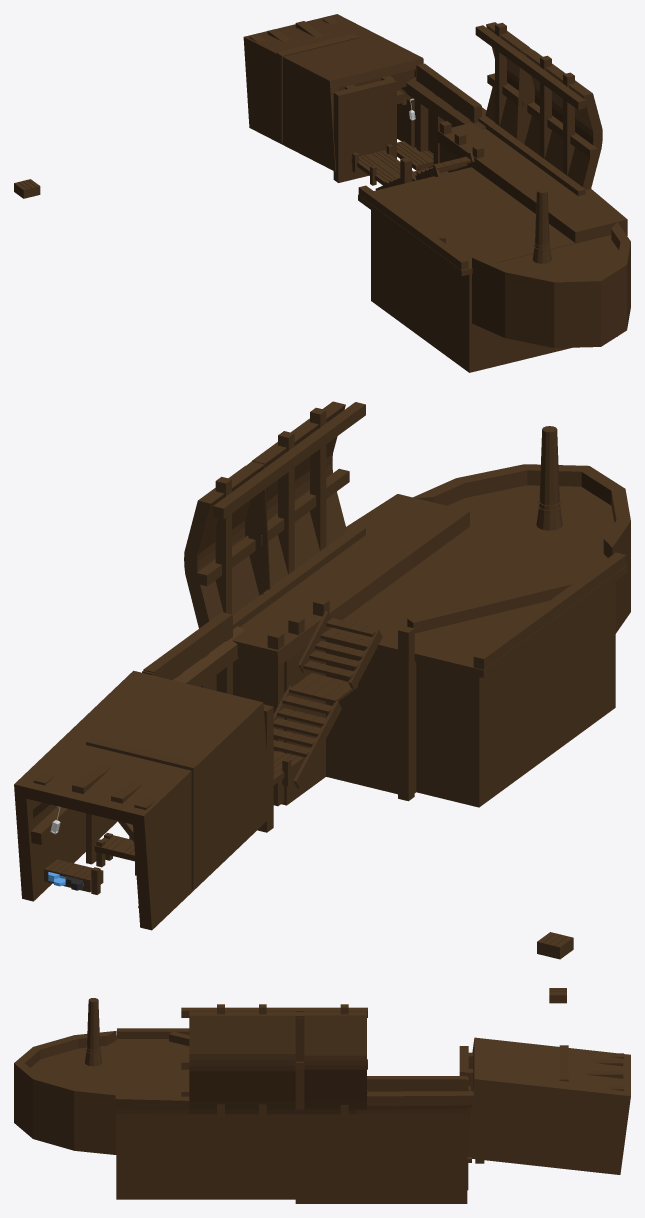
The model's file is ship_inside.fbx.
3 views of the same model, one above another, from view 1: azimuth 30°, elevation 25°; view 2: azimuth 150°, elevation 25°; view 3: azimuth 270°, elevation 25° (orthographic). The views are drawn at different scales.
Visible parts, largest first — view 1: Cube.108, Cylinder.471, Cube.028, Cube.061, Cube.120, Cube.009, Cube.118, Cube.128, Cube.119, Cylinder.574, Cube.037, Cube.122 (+5 smaller); view 2: Cube.108, Cube.028, Cylinder.471, Cube.120, Cube.009, Cube.114, Cube.037, Cube.008, Cube.118, Cube.128, Cube.119, Cylinder.574 (+9 smaller); view 3: Cube.108, Cube.028, Cylinder.471, Cube.128, Cylinder.574, Cube.120, Cube.009, Cube.037.
Part boxes in pixels (x1,y1,x2,y2): Cube.108: [358, 22, 627, 372]; Cylinder.471: [472, 222, 630, 347]; Cube.028: [243, 14, 423, 171]; Cube.061: [333, 78, 396, 182]; Cube.120: [475, 25, 585, 109]; Cube.009: [358, 185, 468, 270]; Cube.118: [478, 114, 585, 196]; Cube.128: [417, 63, 481, 121]; Cube.119: [487, 73, 597, 157]; Cylinder.574: [532, 188, 551, 263]; Cube.037: [277, 34, 358, 143]; Cube.122: [540, 55, 551, 158]; Cube.108: [129, 401, 627, 839]; Cube.028: [14, 670, 271, 930]; Cylinder.471: [413, 464, 630, 633]; Cube.120: [213, 402, 365, 519]; Cube.009: [473, 552, 626, 669]; Cube.114: [398, 626, 414, 801]; Cube.037: [86, 737, 199, 888]; Cube.008: [407, 579, 573, 633]; Cube.118: [233, 525, 365, 628]; Cube.128: [143, 612, 232, 679]; Cube.119: [196, 468, 349, 586]; Cylinder.574: [536, 426, 562, 530]; Cube.108: [115, 1011, 473, 1203]; Cube.028: [467, 1037, 630, 1174]; Cylinder.471: [14, 1031, 116, 1154]; Cube.128: [367, 1076, 466, 1091]; Cylinder.574: [85, 998, 102, 1066]; Cube.120: [181, 1007, 367, 1017]; Cube.009: [117, 1028, 189, 1038]; Cube.037: [559, 1045, 568, 1081].
Bounding box in the file's own units: 9132 × 4980 × 14082.
